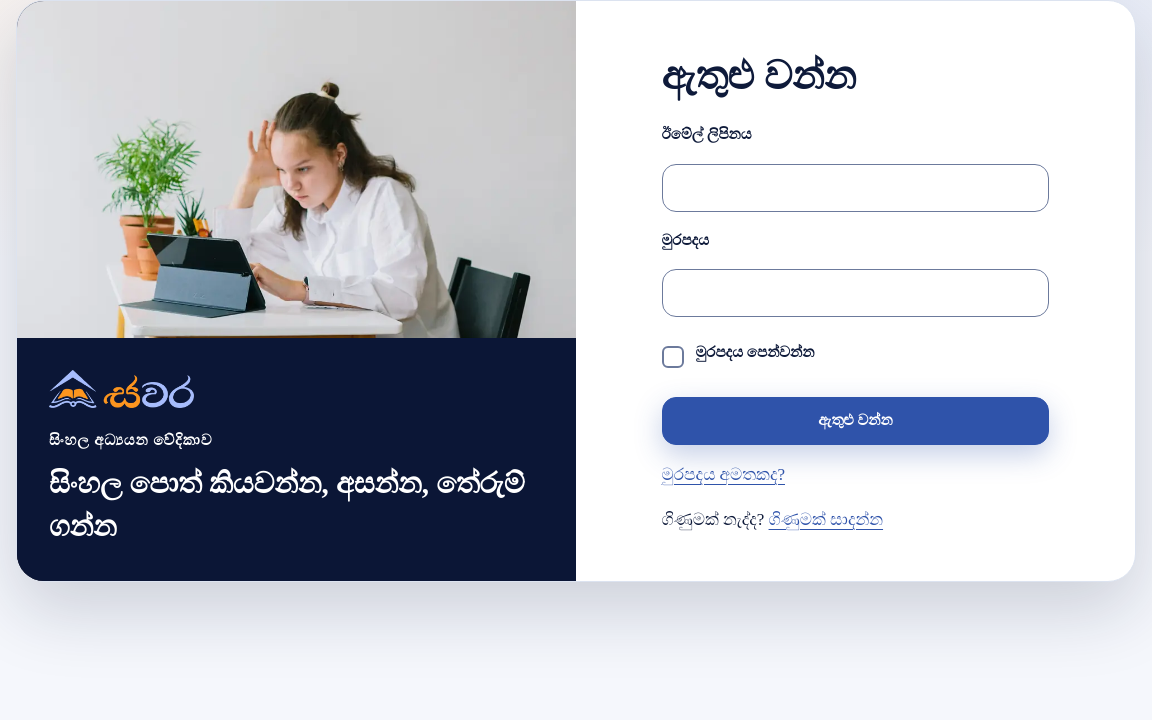
signing in › tells a reader who has tried too often to wait, not that they are wrong
Type "nimali@example.lk" into the field labelled "ඊමේල් ලිපිනය". click: [856, 188]
box: [662,164,1049,212]
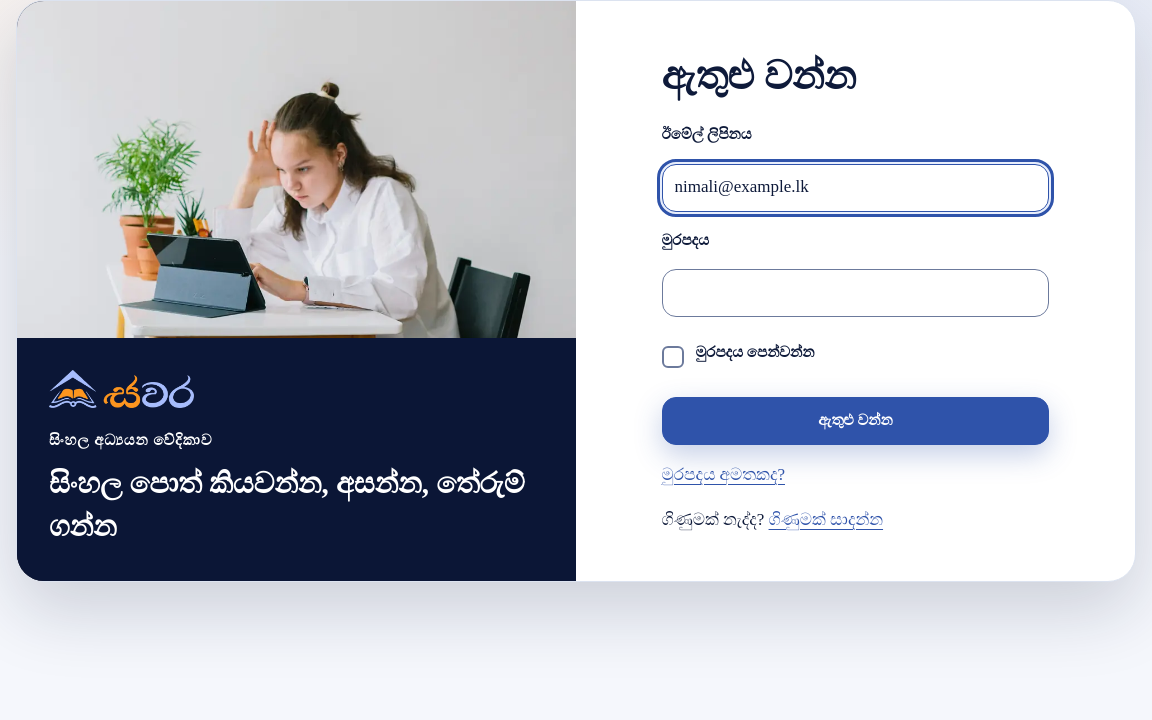
Type "a-long-enough-password" into the password field labelled "මුරපදය". click: [856, 293]
box: [662,269,1049,317]
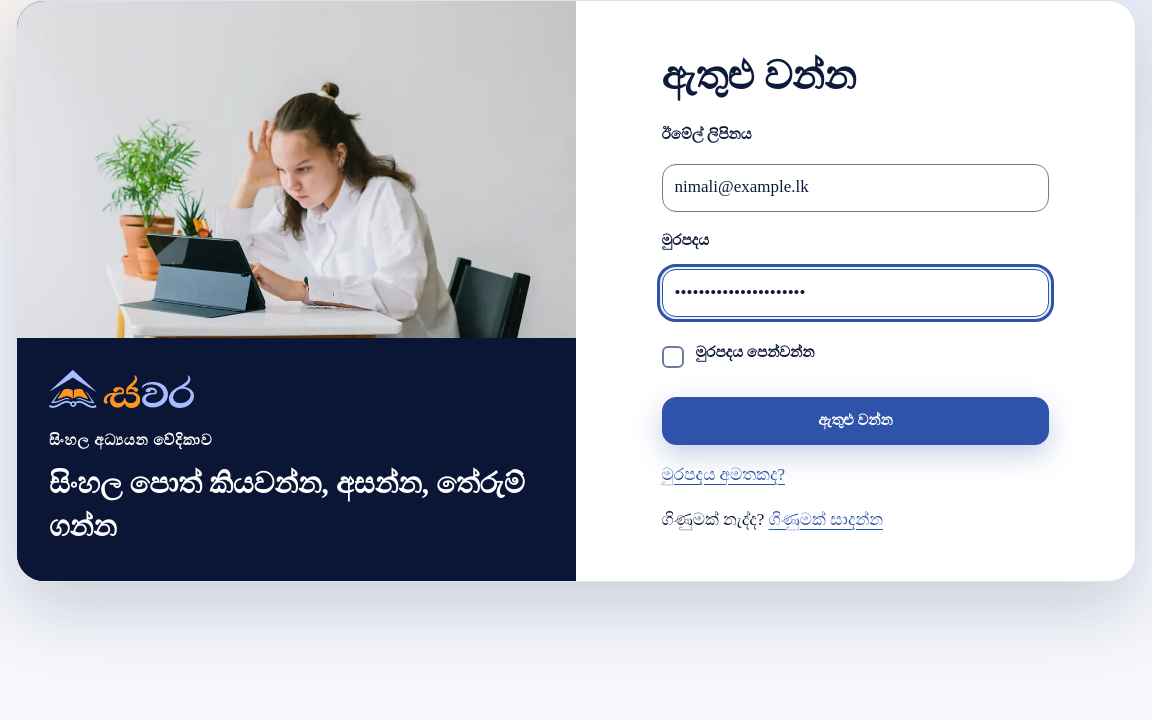
Click the button "ඇතුළු වන්න". click: [856, 421]
box: [662,397,1049,445]
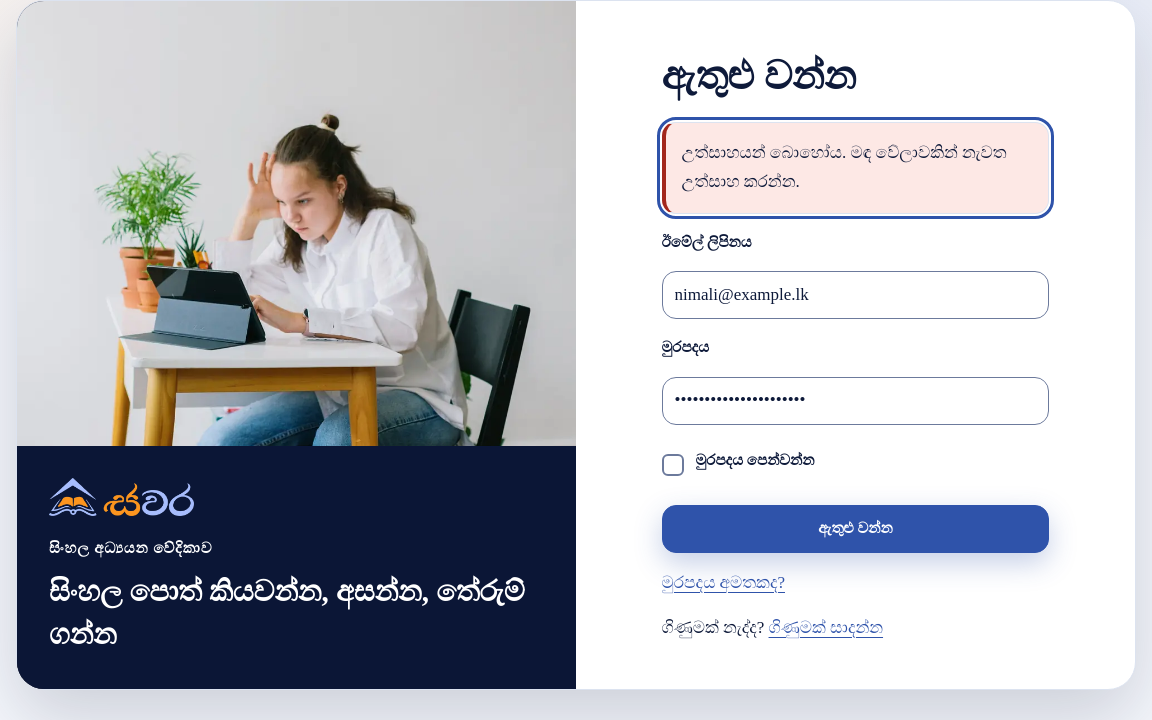
Now the text "උත්සාහයන් බොහෝය. මඳ වේලාවකින් නැවත උත්සාහ කරන්න." is shown, box [662,122,1049,214]
